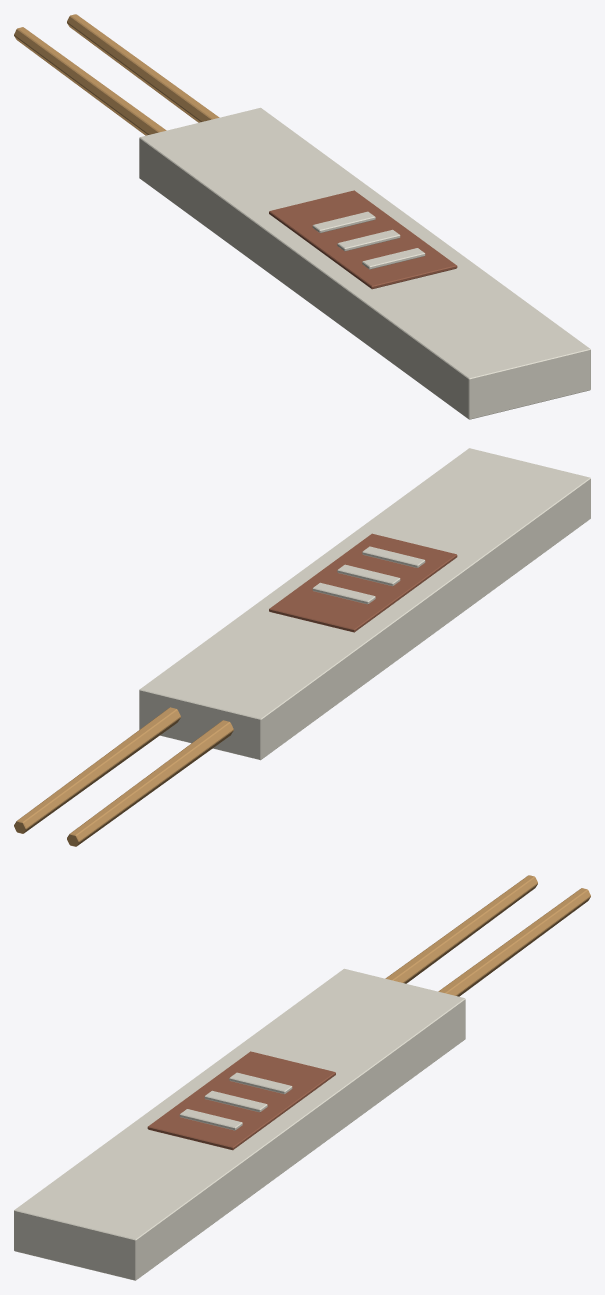
File: b16_chopsticks_in_paper_sleeve.glb
The picture shows the model from 3 angles, top to bottom: view 1: azimuth 30°, elevation 25°; view 2: azimuth 150°, elevation 25°; view 3: azimuth 330°, elevation 25°; orthographic projection.
Parts seen in each view (by area): view 1: b16_chopsticks_in_paper_sleeve; view 2: b16_chopsticks_in_paper_sleeve; view 3: b16_chopsticks_in_paper_sleeve.
Part boxes in pixels (x1,y1,x2,y2): b16_chopsticks_in_paper_sleeve: [14, 14, 590, 419]; b16_chopsticks_in_paper_sleeve: [14, 448, 590, 846]; b16_chopsticks_in_paper_sleeve: [14, 875, 590, 1280].
Size of the model in its own units: 0.037 by 0.014 by 0.2535.
